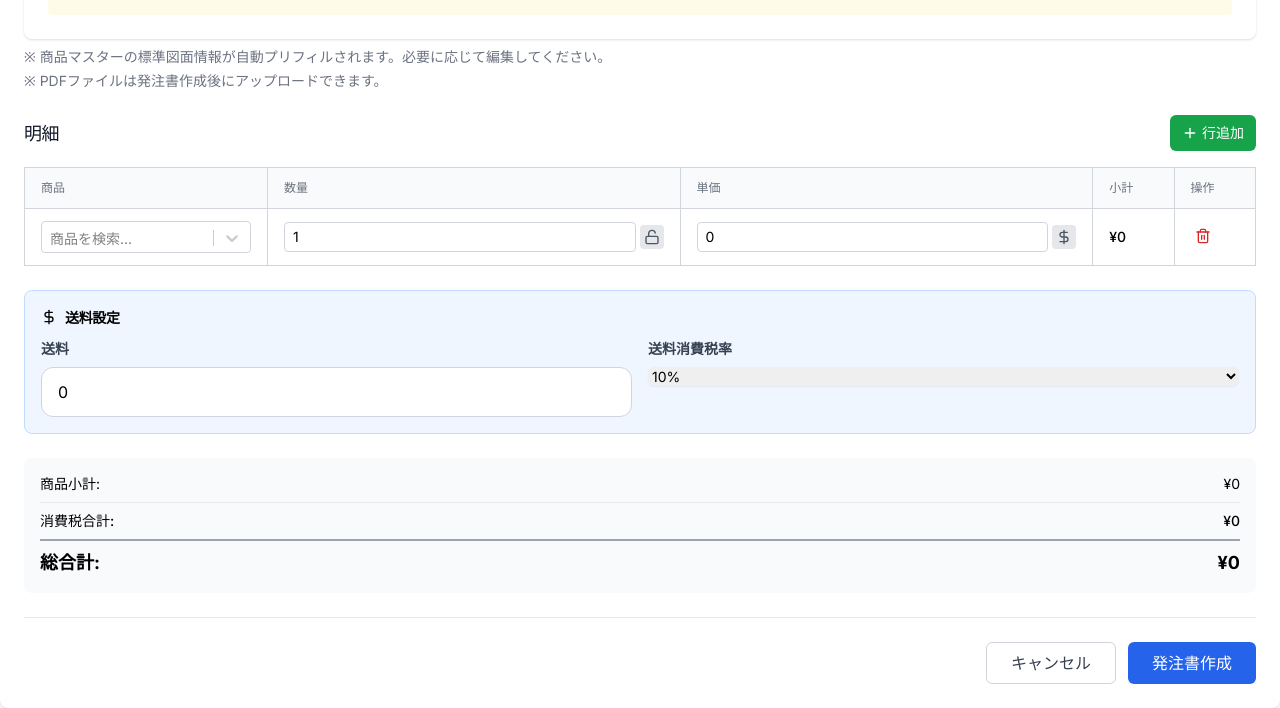
OrderNew › Loading States › should disable buttons during submission
(page scrolled)
Click the button "発注書作成": (1192, 663) [1128, 642, 1256, 684]
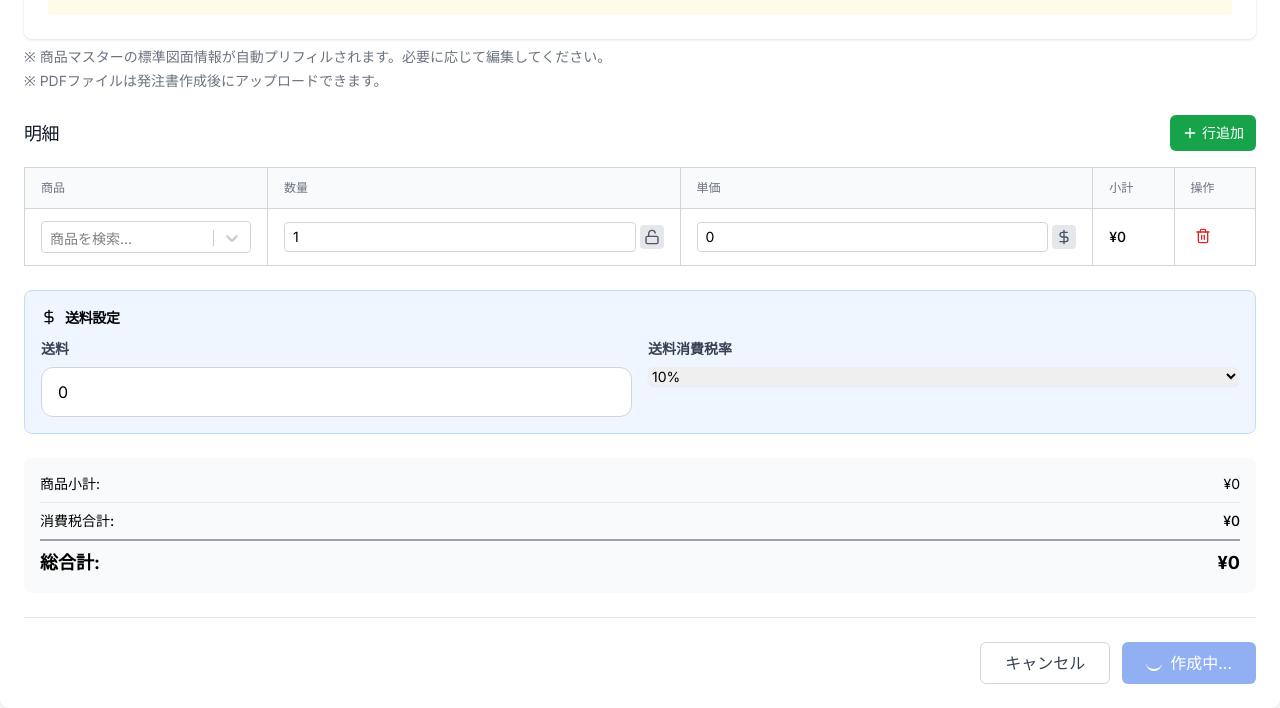
Expected: the text "作成中..." is shown, [1146, 651, 1232, 675]
